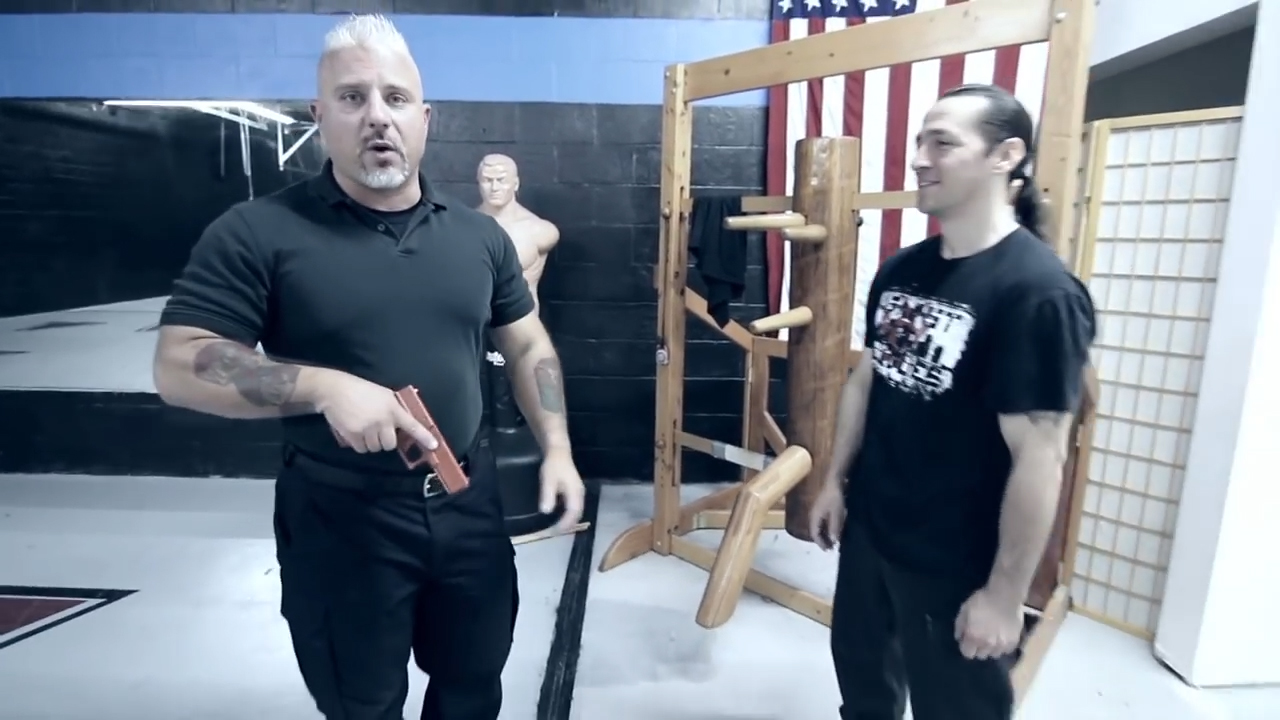pistol: (328, 382, 473, 497)
